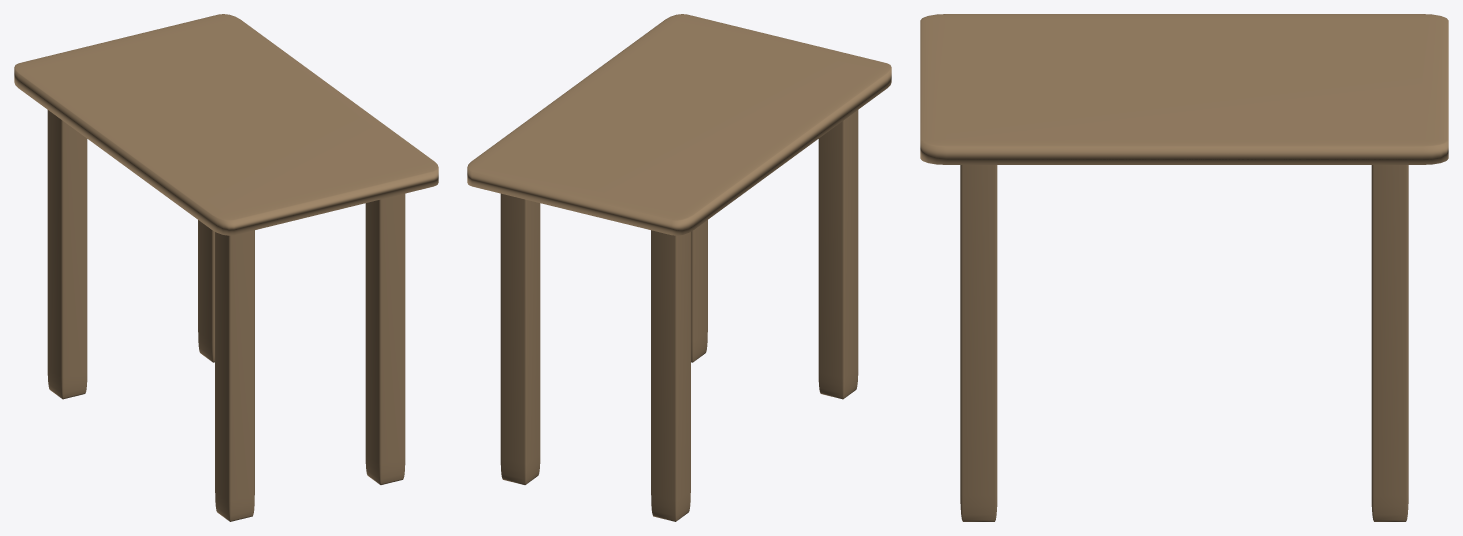
3 renders of one model, left to right at view 1: azimuth 30°, elevation 25°; view 2: azimuth 150°, elevation 25°; view 3: azimuth 270°, elevation 25°, orthographic. The views are drawn at different scales.
Parts seen in each view (by area): view 1: Cube, Cube.001; view 2: Cube, Cube.001; view 3: Cube, Cube.001.
Boxes of the visible parts, left/top/right/bottom form: Cube: left=14, top=14, right=438, bottom=235; Cube.001: left=47, top=110, right=405, bottom=521; Cube: left=467, top=14, right=891, bottom=235; Cube.001: left=500, top=110, right=858, bottom=521; Cube: left=920, top=14, right=1448, bottom=164; Cube.001: left=960, top=165, right=1408, bottom=521.
Bounding box in the file's own units: 119 × 163 × 200.
